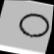no answer: (14, 8, 53, 43)
